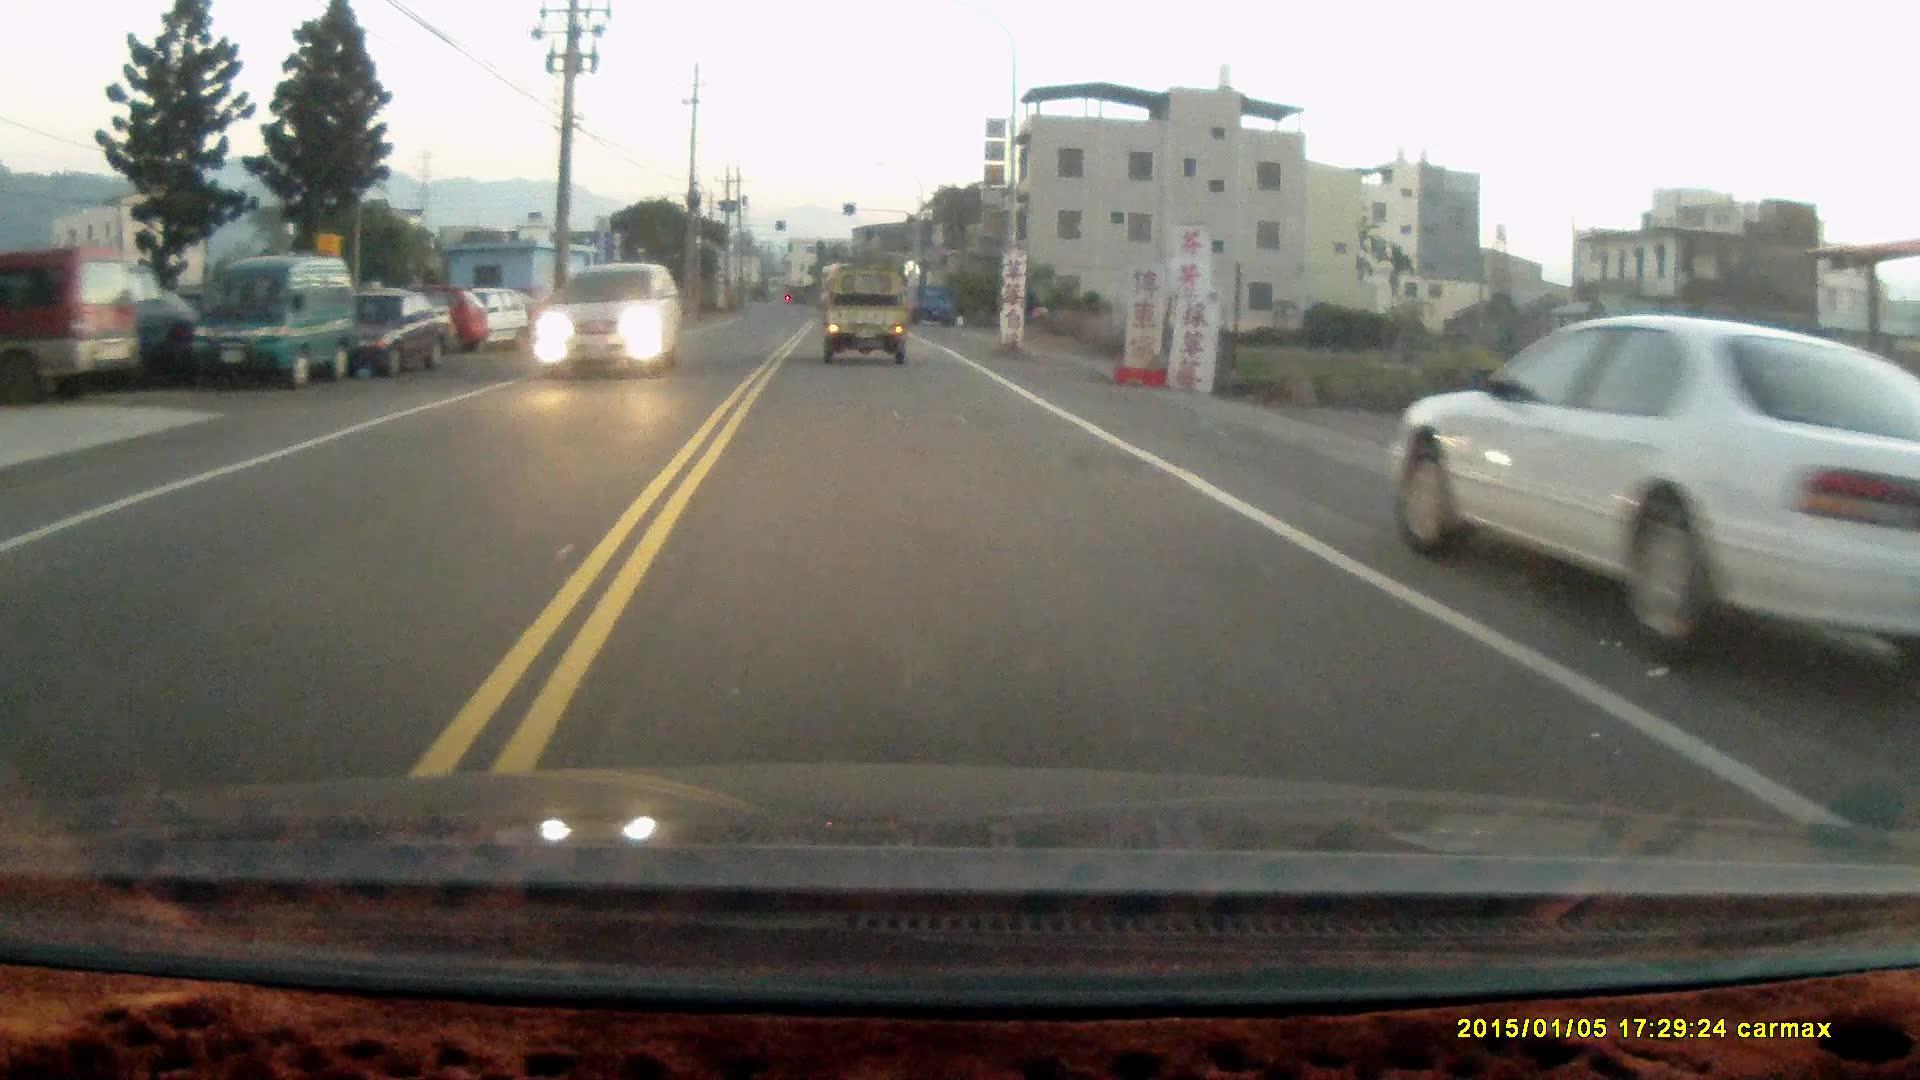vehicle: (1393, 313, 1920, 650), (193, 257, 359, 390), (1, 247, 141, 396), (530, 261, 682, 382), (357, 291, 460, 382), (822, 278, 914, 373), (455, 293, 526, 361)
